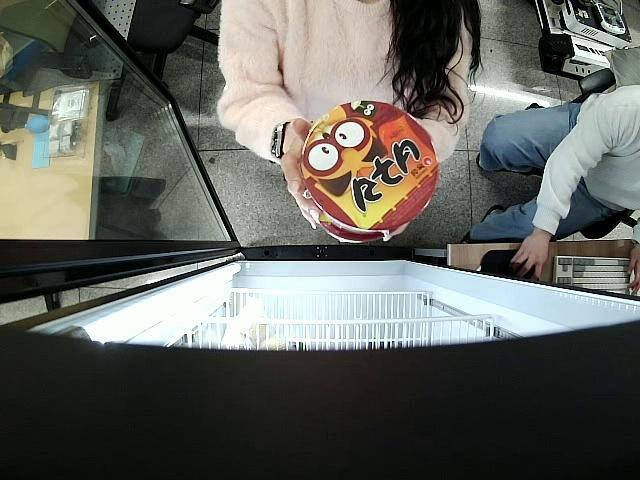05_nuguri_L: (304, 100, 440, 231)
